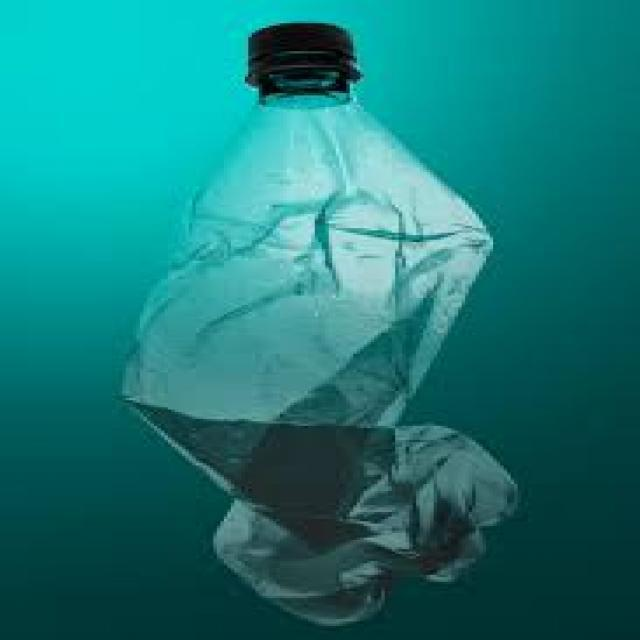defected: (111, 24, 538, 628)
